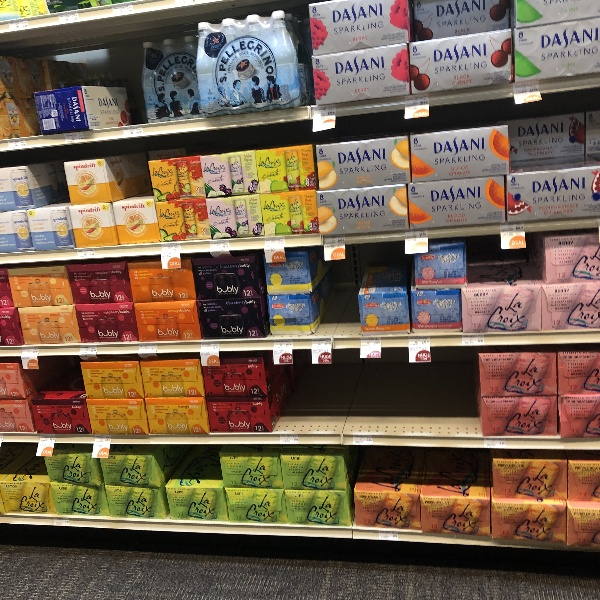void: (268, 343, 482, 437), (314, 245, 360, 334)
